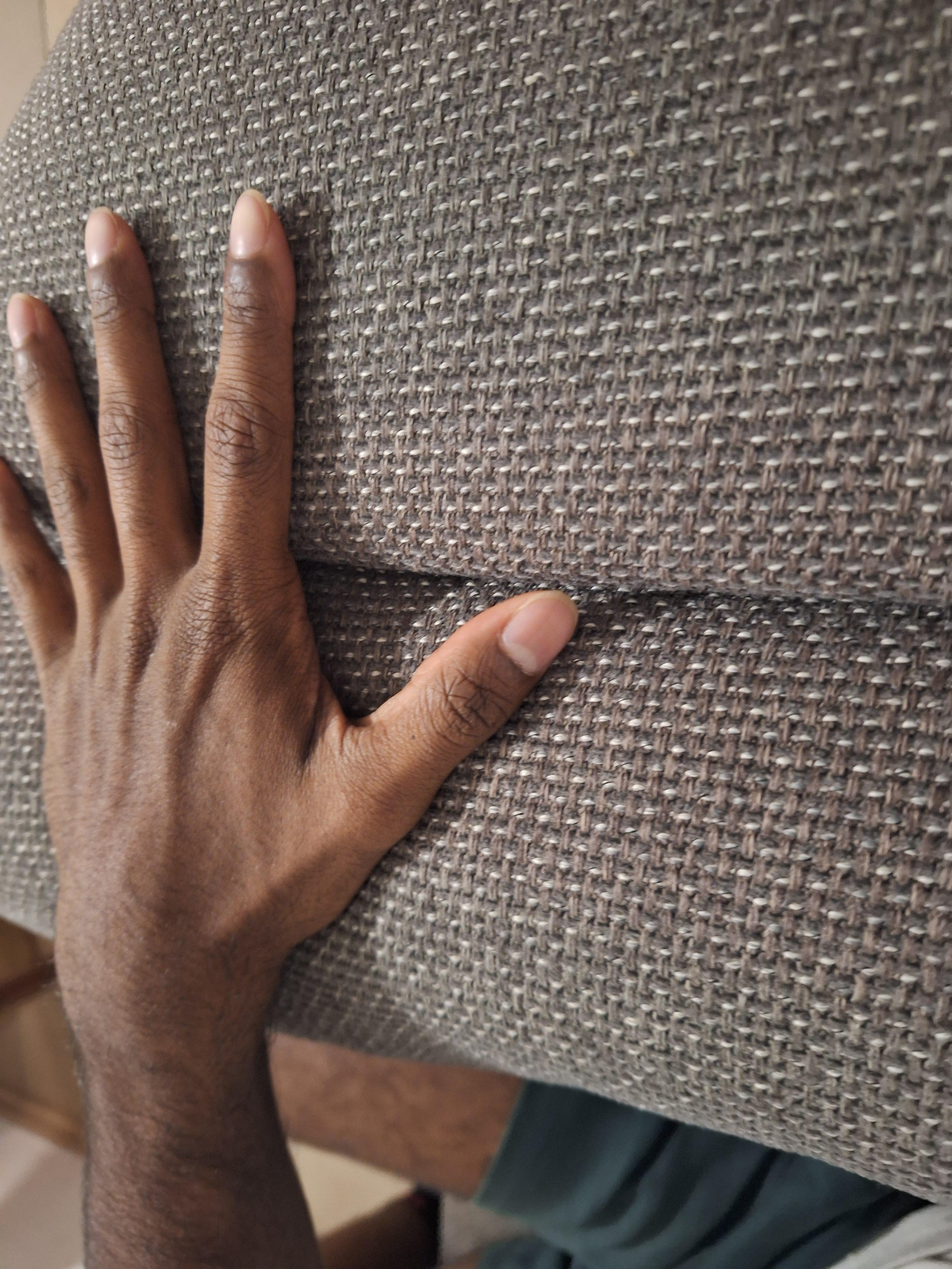Fingernail: (499, 591, 579, 674), (230, 189, 269, 257), (84, 207, 118, 269), (7, 293, 37, 347)
